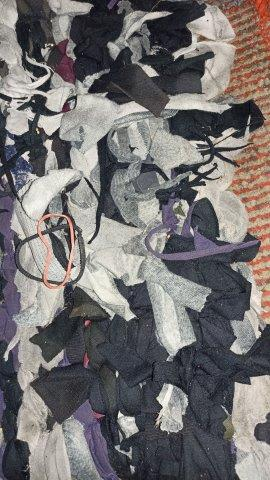karet: (15, 213, 86, 290)
